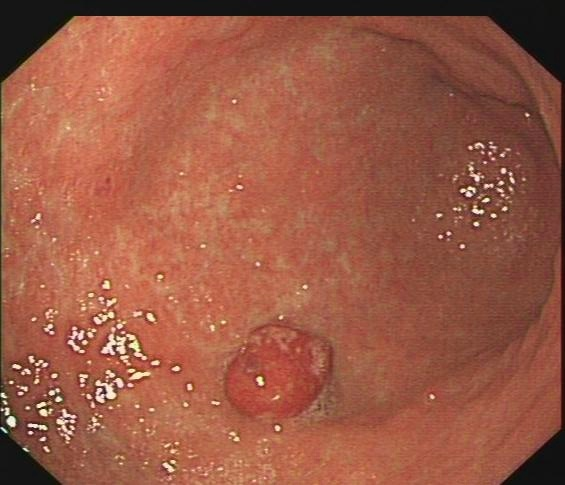Polyp: (219, 312, 333, 420)
